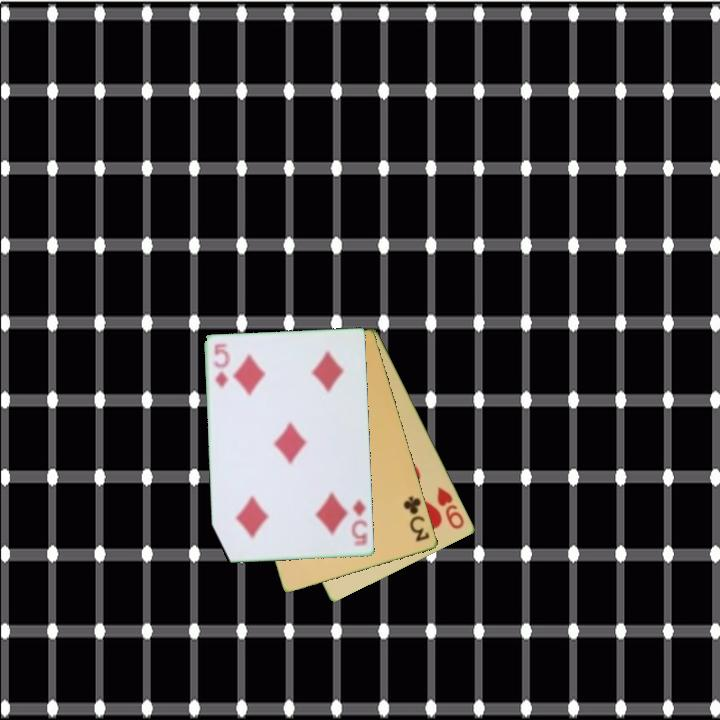3c: (400, 492, 433, 545)
5d: (348, 496, 371, 550), (209, 341, 232, 392)
9h: (434, 483, 468, 532)
